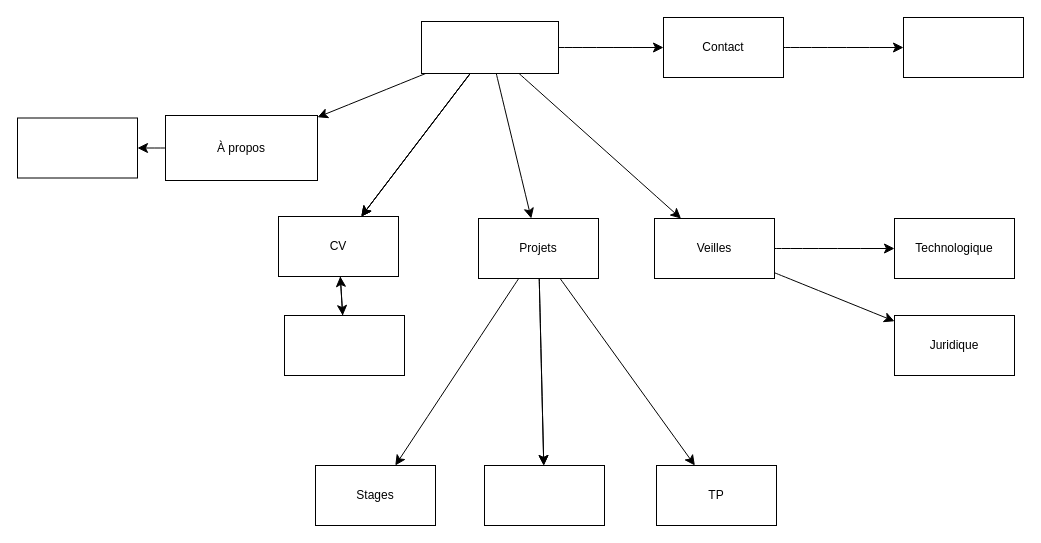
Some shapes in this 1041 by 543 pixel diagram are drawn without their labels. Each missing label, with the centre of its shape:
"Acceuil" goes at (489,47).
"Atelier Pro" goes at (544,495).
"Biographie" goes at (77,147).
"Email" goes at (963,47).
"Lettre de motivation" goes at (344,345).
